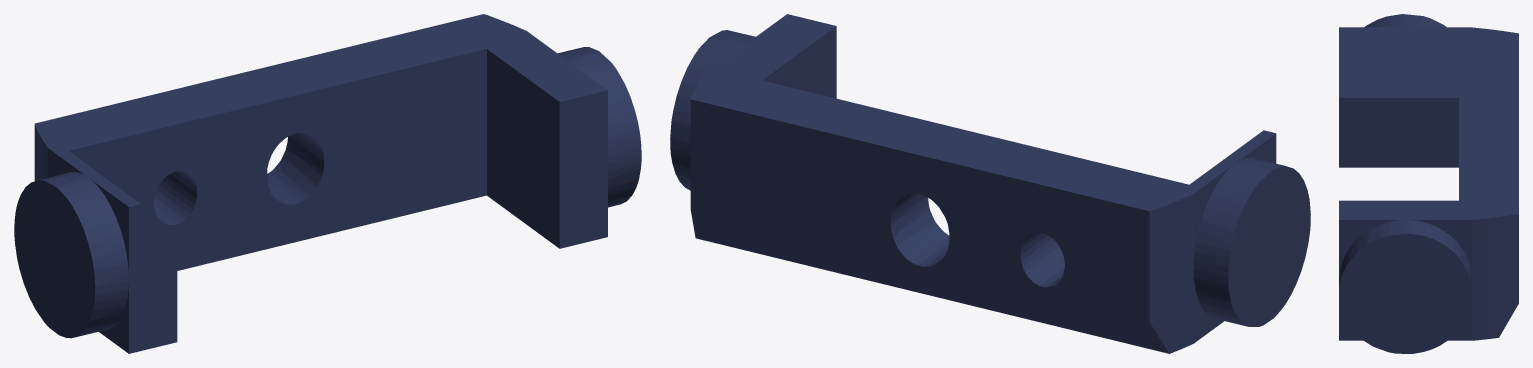
The model's file is i02_head_left_eye_horizontal_visual.obj.
3 renders of one model, left to right at view 1: azimuth 30°, elevation 25°; view 2: azimuth 150°, elevation 25°; view 3: azimuth 270°, elevation 25°, orthographic. The views are drawn at different scales.
Parts seen in each view (by area): view 1: i02_head_left_eye_horizontal_visual.001; view 2: i02_head_left_eye_horizontal_visual.001; view 3: i02_head_left_eye_horizontal_visual.001.
Boxes of the visible parts, x1,y1,x2,y2 form: i02_head_left_eye_horizontal_visual.001: [14, 14, 641, 353]; i02_head_left_eye_horizontal_visual.001: [670, 14, 1310, 353]; i02_head_left_eye_horizontal_visual.001: [1339, 14, 1518, 353].
Bounding box in the file's own units: 0.1838 × 0.0472 × 0.0637.
